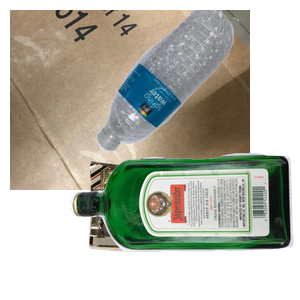cardboard: (10, 10, 250, 190)
glass: (67, 150, 300, 300)
plastic: (94, 10, 300, 154)
trash: (86, 158, 242, 300)
